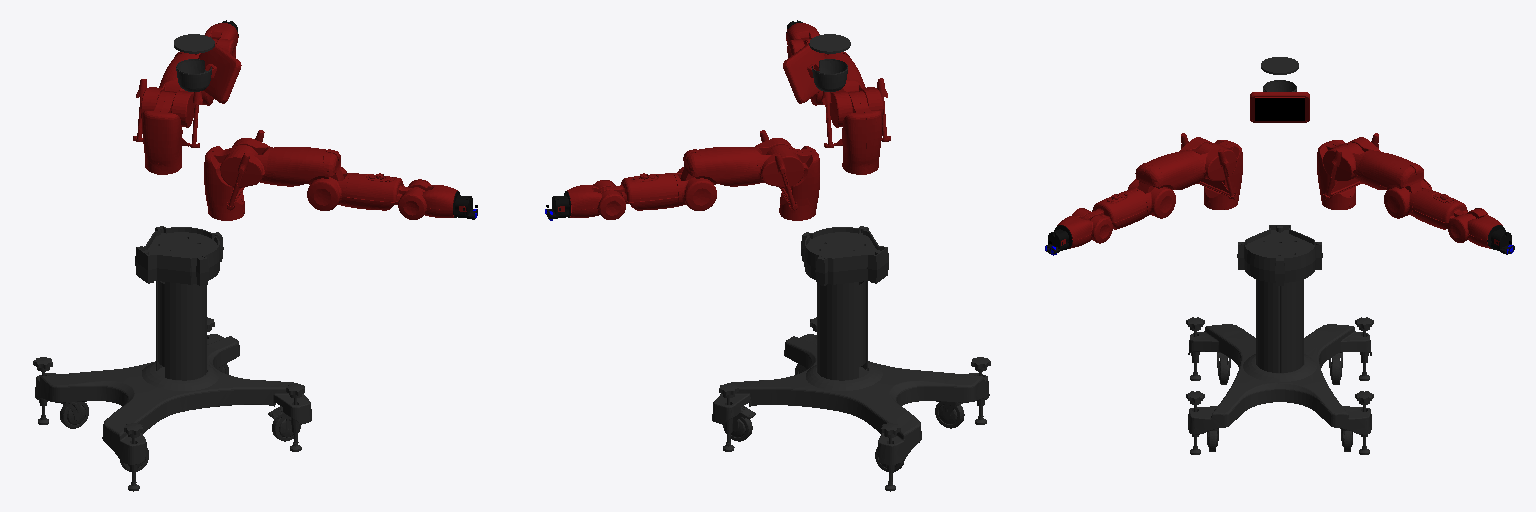
--- Render facts (derived) ---
Views: 3 orthographic renders of the robot side by side, from view 1: azimuth 30°, elevation 25°; view 2: azimuth 150°, elevation 25°; view 3: azimuth 270°, elevation 25°.
Model baxter with 49 links and 48 joints (15 revolute, 33 fixed), rooted at base, posed all joints at 0.
Links seen in each view (by area): view 1: pedestal, left_upper_shoulder, right_upper_elbow, right_upper_shoulder, right_upper_forearm, right_lower_forearm, right_lower_shoulder, screen, left_lower_shoulder, right_lower_elbow, head, left_lower_forearm (+1 smaller); view 2: pedestal, right_upper_shoulder, left_upper_elbow, left_upper_shoulder, left_upper_forearm, left_lower_forearm, left_lower_shoulder, screen, right_lower_shoulder, left_lower_elbow, head, right_lower_forearm (+1 smaller); view 3: pedestal, right_upper_elbow, left_upper_elbow, left_upper_shoulder, right_upper_shoulder, right_upper_forearm, left_upper_forearm, left_lower_forearm, right_lower_forearm, display, right_lower_shoulder, left_lower_shoulder (+4 smaller).
Link boxes in pixels (box(x1,y1,x2,y2)): pedestal: box(33, 226, 311, 491); left_upper_shoulder: box(133, 79, 202, 174); right_upper_elbow: box(265, 147, 343, 186); right_upper_shoulder: box(204, 130, 264, 220); right_upper_forearm: box(346, 173, 424, 210); right_lower_forearm: box(398, 179, 457, 219); right_lower_shoulder: box(220, 138, 272, 187); screen: box(198, 43, 241, 103); left_lower_shoulder: box(141, 79, 194, 127); right_lower_elbow: box(307, 166, 350, 210); head: box(176, 59, 211, 91); left_lower_forearm: box(205, 23, 238, 57); pedestal: box(712, 226, 990, 491); right_upper_shoulder: box(821, 78, 890, 174); left_upper_elbow: box(680, 147, 758, 186); left_upper_shoulder: box(760, 130, 819, 220); left_upper_forearm: box(598, 173, 678, 210); left_lower_forearm: box(567, 180, 625, 219); left_lower_shoulder: box(751, 138, 804, 187); screen: box(783, 44, 825, 103); right_lower_shoulder: box(830, 79, 883, 127); left_lower_elbow: box(673, 167, 716, 210); head: box(812, 59, 847, 91); right_lower_forearm: box(786, 23, 819, 57); pedestal: box(1186, 225, 1373, 454); right_upper_elbow: box(1135, 151, 1202, 193); left_upper_elbow: box(1357, 151, 1423, 193); left_upper_shoulder: box(1317, 133, 1378, 209); right_upper_shoulder: box(1181, 133, 1242, 209); right_upper_forearm: box(1083, 189, 1147, 229); left_upper_forearm: box(1412, 189, 1475, 229); left_lower_forearm: box(1448, 208, 1502, 248); right_lower_forearm: box(1057, 208, 1112, 248); display: box(1255, 98, 1304, 120); right_lower_shoulder: box(1179, 137, 1236, 180); left_lower_shoulder: box(1323, 137, 1380, 180).
Bounding box of the posed robot: 1.34 × 2.07 × 1.76 m (x, y, z).
17 mesh visuals loaded from 11 distinct referenced files (10 binary STL); not drawn: 1 (file found but could not be loaded).

The robot description file, URDF, robot "baxter":
<?xml version="1.0" ?>
<!-- =================================================================================== -->
<!-- |    This document was autogenerated by xacro from baxter.urdf.xacro              | -->
<!-- |    EDITING THIS FILE BY HAND IS NOT RECOMMENDED                                 | -->
<!-- =================================================================================== -->
<robot name="baxter">
  <link name="base">
  </link>
  <link name="torso">
    <visual>
      <origin rpy="0 0 0" xyz="0 0 0"/>
      <geometry>
        <mesh filename="package://baxter_description/meshes/torso/base_link.STL"/>
      </geometry>
    </visual>
    <collision>
      <origin rpy="0 0 0" xyz="0 0 0"/>
      <geometry>
        <mesh filename="package://baxter_description/meshes/torso/base_link_collision.STL"/>
      </geometry>
    </collision>
    <inertial>
      <origin rpy="0 0 0" xyz="0.000000 0.000000 0.000000"/>
      <mass value="35.336455"/>
      <inertia ixx="1.849155" ixy="-0.000354" ixz="-0.154188" iyy="1.662671" iyz="0.003292" izz="0.802239"/>
    </inertial>
  </link>
  <link name="left_torso_itb">
    <!-- note: invisible -->
    <inertial>
      <origin rpy="0 0 0" xyz="0.000000 0.000000 0.000000"/>
      <mass value="0.0001"/>
      <inertia ixx="1e-08" ixy="0" ixz="0" iyy="1e-08" iyz="0" izz="1e-08"/>
    </inertial>
  </link>
  <link name="right_torso_itb">
    <!-- note: invisible -->
    <inertial>
      <origin rpy="0 0 0" xyz="0.000000 0.000000 0.000000"/>
      <mass value="0.0001"/>
      <inertia ixx="1e-08" ixy="0" ixz="0" iyy="1e-08" iyz="0" izz="1e-08"/>
    </inertial>
  </link>
  <link name="pedestal">
    <visual>
      <origin rpy="0 0 0" xyz="0 0 0"/>
      <geometry>
        <mesh filename="package://baxter_description/meshes/base/PEDESTAL_simple.STL"/>
      </geometry>
      <material name="darkgray">
        <color rgba=".2 .2 .2 1"/>
      </material>
    </visual>
    <collision>
      <origin rpy="0 0 0" xyz="0 0 0"/>
      <geometry>
        <mesh filename="package://baxter_description/meshes/base/pedestal_link_collision.STL"/>
      </geometry>
    </collision>
    <inertial>
      <origin rpy="0 0 0" xyz="0 0 0"/>
      <mass value="60.86397744"/>
      <inertia ixx="5.0635929" ixy="0.00103417" ixz="0.80199628" iyy="6.08689388" iyz="0.00105311" izz="4.96191932"/>
    </inertial>
  </link>
  <link name="head">
    <visual>
      <origin rpy="0 0 0" xyz="0 0 .00953"/>
      <geometry>
        <mesh filename="package://baxter_description/meshes/head/H0_simple.STL"/>
      </geometry>
      <material name="darkgray">
        <color rgba=".2 .2 .2 1"/>
      </material>
    </visual>
    <collision>
      <origin rpy="0 0 0" xyz="0.0 0 0.0"/>
      <geometry>
        <sphere radius="0.001"/>
      </geometry>
    </collision>
    <inertial>
      <origin rpy="0 0 0" xyz="0 0 0"/>
      <mass value="0.547767"/>
      <inertia ixx="0.004641" ixy="0.000159" ixz="0.000242" iyy="0.003295" iyz="-0.001324" izz="0.003415"/>
    </inertial>
  </link>
  <link name="sonar_ring">
    <visual>
      <origin rpy="0 0 0" xyz="-.0347 0 .00953"/>
      <geometry>
        <cylinder length="0.01" radius="0.085"/>
      </geometry>
      <material name="darkgray">
        <color rgba=".2 .2 .2 1"/>
      </material>
    </visual>
    <collision>
      <origin rpy="0 0 0" xyz="0.0 0 0.0"/>
      <geometry>
        <sphere radius="0.001"/>
      </geometry>
    </collision>
    <inertial>
      <origin rpy="0 0 0" xyz="0 0 0"/>
      <mass value="0.0001"/>
      <inertia ixx="1e-08" ixy="0" ixz="0" iyy="1e-08" iyz="0" izz="1e-08"/>
    </inertial>
  </link>
  <link name="screen">
    <visual>
      <origin rpy="0 -1.57079632679 0" xyz="0 -.00953 -.0347"/>
      <geometry>
        <mesh filename="package://baxter_description/meshes/head/H1_simple.STL"/>
      </geometry>
      <material name="darkred">
        <color rgba=".5 .1 .1 1"/>
      </material>
    </visual>
    <collision>
      <origin rpy="0 0 0" xyz="0.0 0 0.0"/>
      <geometry>
        <sphere radius="0.001"/>
      </geometry>
    </collision>
    <inertial>
      <origin rpy="0 0 0" xyz="0 0 0"/>
      <mass value="0.440171"/>
      <inertia ixx="0.004006" ixy="0.000230" ixz="0.000002" iyy="0.002800" iyz="0.000029" izz="0.001509"/>
    </inertial>
  </link>
  <link name="display">
    <visual>
      <origin rpy="0.2617993877991494 0 0" xyz="0 0 0"/>
      <geometry>
        <box size="0.218 0.16 0.001"/>
      </geometry>
      <material name="black">
        <color rgba="0 0 0 1"/>
      </material>
    </visual>
    <inertial>
      <origin rpy="0 0 0" xyz="0 0 0"/>
      <mass value="0.0001"/>
      <inertia ixx="1e-08" ixy="0" ixz="0" iyy="1e-08" iyz="0" izz="1e-08"/>
    </inertial>
  </link>
  <link name="head_camera">
    <inertial>
      <origin rpy="0 0 0" xyz="0 0 0"/>
      <mass value="0.0001"/>
      <inertia ixx="1e-08" ixy="0" ixz="0" iyy="1e-08" iyz="0" izz="1e-08"/>
    </inertial>
  </link>
  <link name="dummyhead1">
    <inertial>
      <origin rpy="0 0 0" xyz="0 0 0"/>
      <mass value="0.0001"/>
      <inertia ixx="1e-08" ixy="0" ixz="0" iyy="1e-08" iyz="0" izz="1e-08"/>
    </inertial>
  </link>
  <link name="collision_head_link_1">
    <visual>
      <origin rpy="0 0 0" xyz="0 0 0"/>
      <geometry>
        <sphere radius="0.001"/>
      </geometry>
      <material name="red">
        <color rgba="0.8 0.3 0.3 0.3"/>
      </material>
    </visual>
    <collision>
      <origin rpy="0 0 0.0" xyz="-0.07 -0.04 0.0"/>
      <geometry>
        <sphere radius="0.22"/>
      </geometry>
    </collision>
    <inertial>
      <origin rpy="0 0 0" xyz="0 0 0"/>
      <mass value="0.0001"/>
      <inertia ixx="1e-08" ixy="0" ixz="0" iyy="1e-08" iyz="0" izz="1e-08"/>
    </inertial>
  </link>
  <link name="collision_head_link_2">
    <visual>
      <origin rpy="0 0 0" xyz="0 0 0"/>
      <geometry>
        <sphere radius="0.001"/>
      </geometry>
      <material name="red">
        <color rgba="0.8 0.3 0.3 0.3"/>
      </material>
    </visual>
    <collision>
      <origin rpy="0 0 0" xyz="-0.07 0.04 0.00"/>
      <geometry>
        <sphere radius="0.22"/>
      </geometry>
    </collision>
    <inertial>
      <origin rpy="0 0 0" xyz="0 0 0"/>
      <mass value="0.0001"/>
      <inertia ixx="1e-08" ixy="0" ixz="0" iyy="1e-08" iyz="0" izz="1e-08"/>
    </inertial>
  </link>
  <joint name="collision_head_1" type="fixed">
    <origin rpy="0 0 0" xyz="0.11 0 0.75"/>
    <parent link="base"/>
    <child link="collision_head_link_1"/>
  </joint>
  <joint name="collision_head_2" type="fixed">
    <origin rpy="0 0 0" xyz="0.11 0 0.75"/>
    <parent link="base"/>
    <child link="collision_head_link_2"/>
  </joint>
  <joint name="dummy" type="fixed">
    <origin rpy="0 0 0" xyz="0 0 0"/>
    <parent link="head"/>
    <child link="dummyhead1"/>
  </joint>
  <joint name="torso_t0" type="fixed">
    <origin rpy="0 0 0" xyz="0 0 0"/>
    <parent link="base"/>
    <child link="torso"/>
    <limit effort="50000" lower="-3.01" upper="3.01" velocity="10000"/>
  </joint>
  <joint name="left_torso_itb_fixed" type="fixed">
    <origin rpy="-1.57079632679 3.1415 0" xyz="-0.08897 0.15593 0.389125"/>
    <parent link="torso"/>
    <child link="left_torso_itb"/>
  </joint>
  <joint name="right_torso_itb_fixed" type="fixed">
    <origin rpy="1.57079632679 0 0" xyz="-0.08897 -0.15593 0.389125"/>
    <parent link="torso"/>
    <child link="right_torso_itb"/>
  </joint>
  <joint name="pedestal_fixed" type="fixed">
    <origin rpy="0 0 0" xyz="0.0 0.0 0.0"/>
    <parent link="torso"/>
    <child link="pedestal"/>
  </joint>
  <joint name="head_pan" type="revolute">
    <origin rpy="0 0 0" xyz="0.06 0 0.686"/>
    <axis xyz="0 0 1"/>
    <parent link="torso"/>
    <child link="head"/>
    <limit effort="50000" lower="-1.57079632679" upper="1.57079632679" velocity="10000"/>
    <dynamics damping="0.7" friction="0.0"/>
  </joint>
  <joint name="head_nod" type="fixed">
    <origin rpy="1.75057 0 1.57079632679" xyz=".1227 0 0"/>
    <parent link="head"/>
    <child link="screen"/>
  </joint>
  <joint name="head_camera" type="fixed">
    <origin rpy="1.75057 0 1.57079632679" xyz="0.12839 0 0.06368"/>
    <parent link="head"/>
    <child link="head_camera"/>
  </joint>
  <joint name="display_joint" type="fixed">
    <origin rpy="0 0 0" xyz="0.0 -0.016 0.0"/>
    <parent link="screen"/>
    <child link="display"/>
  </joint>
  <joint name="sonar_s0" type="fixed">
    <origin rpy="0 0 0" xyz="0.0947 0 .817"/>
    <axis xyz="0 0 1"/>
    <parent link="torso"/>
    <child link="sonar_ring"/>
  </joint>
  <link name="right_arm_mount">
    <!-- all defaults -->
    <inertial>
      <origin rpy="0 0 0" xyz="0 0 0"/>
      <mass value="0.0001"/>
      <inertia ixx="1e-08" ixy="0" ixz="0" iyy="1e-08" iyz="0" izz="1e-08"/>
    </inertial>
  </link>
  <link name="right_upper_shoulder">
    <visual>
      <origin rpy="0 0 0" xyz="0 0 0"/>
      <geometry>
        <mesh filename="package://baxter_description/meshes/upper_shoulder/S0_simple.STL"/>
      </geometry>
      <material name="darkred">
        <color rgba=".5 .1 .1 1"/>
      </material>
    </visual>
    <collision>
      <origin rpy="0 0 0" xyz="0 0 0.1361"/>
      <geometry>
        <cylinder length="0.2722" radius="0.06"/>
      </geometry>
    </collision>
    <inertial>
      <origin rpy="0 0 0" xyz="0.01783 0.00086 0.19127"/>
      <mass value="5.70044"/>
      <inertia ixx="0.04709102262" ixy="0.00012787556" ixz="0.00614870039" iyy="0.03766976455" iyz="0.00078086899" izz="0.03595988478"/>
    </inertial>
  </link>
  <link name="right_lower_shoulder">
    <visual>
      <origin rpy="0 0 0" xyz="0 0 0"/>
      <geometry>
        <mesh filename="package://baxter_description/meshes/lower_shoulder/S1_simple.STL"/>
      </geometry>
      <material name="darkred">
        <color rgba=".5 .1 .1 1"/>
      </material>
    </visual>
    <collision>
      <origin rpy="0 0 0" xyz="0 0 0"/>
      <geometry>
        <cylinder length="0.12" radius="0.06"/>
      </geometry>
    </collision>
    <inertial>
      <origin rpy="0 0 0" xyz="0.06845 0.00269 -0.00529"/>
      <mass value="3.22698"/>
      <inertia ixx="0.01175209419" ixy="-0.00030096398" ixz="0.00207675762" iyy="0.0278859752" iyz="-0.00018821993" izz="0.02078749298"/>
    </inertial>
  </link>
  <link name="right_upper_elbow">
    <visual>
      <origin rpy="0 0 0" xyz="0 0 0"/>
      <geometry>
        <mesh filename="package://baxter_description/meshes/upper_elbow/E0_simple.STL"/>
      </geometry>
      <material name="darkred">
        <color rgba=".5 .1 .1 1"/>
      </material>
    </visual>
    <collision>
      <origin rpy="0 0 0" xyz="0 0 -0.0535"/>
      <geometry>
        <cylinder length="0.107" radius="0.06"/>
      </geometry>
    </collision>
    <inertial>
      <origin rpy="0 0 0" xyz="-0.00276 0.00132 0.18086"/>
      <mass value="4.31272"/>
      <inertia ixx="0.02661733557" ixy="0.00029270634" ixz="0.00392189887" iyy="0.02844355207" iyz="0.0010838933" izz="0.01248008322"/>
    </inertial>
  </link>
  <link name="right_upper_elbow_visual">
    <collision>
      <origin rpy="0 0 0" xyz="0 0 0.1365"/>
      <geometry>
        <cylinder length="0.273" radius="0.06"/>
      </geometry>
    </collision>
    <inertial>
      <origin rpy="0 0 0" xyz="0 0 0"/>
      <mass value="0.0001"/>
      <inertia ixx="1e-08" ixy="0" ixz="0" iyy="1e-08" iyz="0" izz="1e-08"/>
    </inertial>
  </link>
  <link name="right_lower_elbow">
    <visual>
      <origin rpy="0 0 0" xyz="0 0 0"/>
      <geometry>
        <mesh filename="package://baxter_description/meshes/lower_elbow/E1_simple.STL"/>
      </geometry>
      <material name="darkred">
        <color rgba=".5 .1 .1 1"/>
      </material>
    </visual>
    <collision>
      <origin rpy="0 0 0" xyz="0.0 0.0 0.0"/>
      <geometry>
        <cylinder length="0.10" radius="0.06"/>
      </geometry>
    </collision>
    <inertial>
      <origin rpy="0 0 0" xyz="0.02611 0.00159 -0.01117"/>
      <mass value="2.07206"/>
      <inertia ixx="0.00711582686" ixy="0.00036036173" ixz="0.0007459496" iyy="0.01318227876" iyz="-0.00019663418" izz="0.00926852064"/>
    </inertial>
  </link>
  <link name="right_upper_forearm">
    <visual>
      <origin rpy="0 0 0" xyz="0 0 0"/>
      <geometry>
        <mesh filename="package://baxter_description/meshes/upper_forearm/W0_simple.STL"/>
      </geometry>
      <material name="darkred">
        <color rgba=".5 .1 .1 1"/>
      </material>
    </visual>
    <collision>
      <origin rpy="0 0 0" xyz="0 0 -0.044"/>
      <geometry>
        <cylinder length="0.088" radius="0.06"/>
      </geometry>
    </collision>
    <inertial>
      <origin rpy="0 0 0" xyz="-0.00168 0.0046 0.13952"/>
      <mass value="2.24665"/>
      <inertia ixx="0.01667742825" ixy="0.00018403705" ixz="0.00018657629" iyy="0.01675457264" iyz="-0.00064732352" izz="0.0037463115"/>
    </inertial>
  </link>
  <link name="right_upper_forearm_visual">
    <collision>
      <origin rpy="0 0 0" xyz="0 0 0.136"/>
      <geometry>
        <cylinder length="0.272" radius="0.06"/>
      </geometry>
    </collision>
    <inertial>
      <origin rpy="0 0 0" xyz="0 0 0"/>
      <mass value="0.0001"/>
      <inertia ixx="1e-08" ixy="0" ixz="0" iyy="1e-08" iyz="0" izz="1e-08"/>
    </inertial>
  </link>
  <link name="right_arm_itb">
    <!-- note: invisible -->
    <inertial>
      <origin rpy="0 0 0" xyz="0.000000 0.000000 0.000000"/>
      <mass value="0.0001"/>
      <inertia ixx="1e-08" ixy="0" ixz="0" iyy="1e-08" iyz="0" izz="1e-08"/>
    </inertial>
  </link>
  <link name="right_lower_forearm">
    <visual>
      <origin rpy="0 0 0" xyz="0 0 0"/>
      <geometry>
        <mesh filename="package://baxter_description/meshes/lower_forearm/W1_simple.STL"/>
      </geometry>
      <material name="darkred">
        <color rgba=".5 .1 .1 1"/>
      </material>
    </visual>
    <collision>
      <origin rpy="0 0 0" xyz="0 0 0"/>
      <geometry>
        <cylinder length="0.10" radius="0.06"/>
      </geometry>
    </collision>
    <inertial>
      <origin rpy="0 0 0" xyz="0.06041 0.00697 0.006"/>
      <mass value="1.60979"/>
      <inertia ixx="0.00387607152" ixy="-0.00044384784" ixz="-0.00021115038" iyy="0.00700537914" iyz="0.00015348067" izz="0.0055275524"/>
    </inertial>
  </link>
  <link name="right_wrist">
    <visual>
      <origin rpy="0 0 0" xyz="0 0 0"/>
      <geometry>
        <mesh filename="package://baxter_description/meshes/wrist/W2_simple.STL"/>
      </geometry>
      <material name="lightgrey">
        <color rgba=".1 .1 .1 1"/>
      </material>
    </visual>
    <collision>
      <origin rpy="0 0 0" xyz="0 0 0"/>
      <geometry>
        <cylinder length="0.165" radius="0.06"/>
      </geometry>
    </collision>
    <inertial>
      <origin rpy="0 0 0" xyz="0.00198 0.00125 0.01855"/>
      <mass value="0.35093"/>
      <inertia ixx="0.00025289155" ixy="0.00000575311" ixz="-0.00000159345" iyy="0.0002688601" iyz="-0.00000519818" izz="0.0003074118"/>
    </inertial>
  </link>
  <link name="right_hand">
    <collision>
      <origin rpy="0 0 0" xyz="0 0 -0.0232"/>
      <geometry>
        <cylinder length="0.0464" radius="0.04"/>
      </geometry>
    </collision>
    <inertial>
      <origin rpy="0 0 0" xyz="0.01093 0.00042 -0.01532"/>
      <mass value="0.19125"/>
      <inertia ixx="0.00017588" ixy="0.00000147073" ixz="0.0000243633" iyy="0.00021166377" iyz="0.00000172689" izz="0.00023745397"/>
    </inertial>
  </link>
  <link name="right_hand_camera">
    <visual>
      <origin rpy="0 0 0" xyz="0 0 0"/>
      <geometry>
        <cylinder length="0.01" radius="0.02"/>
      </geometry>
      <material name="blue">
        <color rgba="0 0 1 0.8"/>
      </material>
    </visual>
    <inertial>
      <origin rpy="0 0 0" xyz="0 0 0"/>
      <mass value="0.0001"/>
      <inertia ixx="1e-08" ixy="0" ixz="0" iyy="1e-08" iyz="0" izz="1e-08"/>
    </inertial>
  </link>
  <link name="right_hand_camera_axis">
    <inertial>
      <origin rpy="0 0 0" xyz="0 0 0"/>
      <mass value="0.0001"/>
      <inertia ixx="1e-08" ixy="0" ixz="0" iyy="1e-08" iyz="0" izz="1e-08"/>
    </inertial>
  </link>
  <link name="right_hand_range">
    <visual>
      <origin rpy="0 0 0" xyz="0 0 0"/>
      <geometry>
        <box size="0.005 .02 .005"/>
      </geometry>
      <material name="blue">
        <color rgba="0 0 1 0.8"/>
      </material>
    </visual>
    <inertial>
      <origin rpy="0 0 0" xyz="0 0 0"/>
      <mass value="0.0001"/>
      <inertia ixx="1e-08" ixy="0" ixz="0" iyy="1e-08" iyz="0" izz="1e-08"/>
    </inertial>
  </link>
  <link name="right_hand_accelerometer">
    <visual>
      <origin rpy="0 0 0" xyz="0 0 0"/>
      <geometry>
        <box size="0.01 0.01 0.01"/>
      </geometry>
      <material name="black">
        <color rgba="0 0 0 1"/>
      </material>
    </visual>
    <inertial>
      <origin rpy="0 0 0" xyz="0.000000 0.000000 0.000000"/>
      <mass value="0.0001"/>
      <inertia ixx="1e-08" ixy="0" ixz="0" iyy="1e-08" iyz="0" izz="1e-08"/>
    </inertial>
  </link>
  <link name="right_gripper_base">
    <visual>
      <origin rpy="0 0 0" xyz="0 0 -0.02"/>
      <geometry>
        <box size="0.025 0.075 0.035"/>
      </geometry>
      <material name="darkred">
        <color rgba=".5 .1 .1 1"/>
      </material>
    </visual>
    <inertial>
      <origin rpy="0 0 0" xyz="0.000000 0.000000 0.000000"/>
      <mass value="0.0001"/>
      <inertia ixx="1e-08" ixy="0" ixz="0" iyy="1e-08" iyz="0" izz="1e-08"/>
    </inertial>
  </link>
  <link name="right_gripper">
    <visual>
      <origin rpy="0 0 0" xyz="0 0 0"/>
      <geometry>
        <box size="0.01 0.01 0.01"/>
      </geometry>
      <material name="black">
        <color rgba="0 0 0 1"/>
      </material>
    </visual>
    <inertial>
      <origin rpy="0 0 0" xyz="0.000000 0.000000 0.000000"/>
      <mass value="0.0001"/>
      <inertia ixx="1e-08" ixy="0" ixz="0" iyy="1e-08" iyz="0" izz="1e-08"/>
    </inertial>
  </link>
  <joint name="right_torso_arm_mount" type="fixed">
    <origin rpy="0 0 -0.7854" xyz="0.024645 -0.219645 0.118588"/>
    <parent link="torso"/>
    <child link="right_arm_mount"/>
  </joint>
  <joint name="right_s0" type="revolute">
    <origin rpy="0 0 0" xyz="0.055695 0 0.011038"/>
    <axis xyz="0 0 1"/>
    <parent link="right_arm_mount"/>
    <child link="right_upper_shoulder"/>
    <limit effort="50.0" lower="-1.70167993878" upper="1.70167993878" velocity="1.5"/>
    <dynamics damping="0.7" friction="0.0"/>
  </joint>
  <joint name="right_s1" type="revolute">
    <origin rpy="-1.57079632679 0 0" xyz="0.069 0 0.27035"/>
    <axis xyz="0 0 1"/>
    <parent link="right_upper_shoulder"/>
    <child link="right_lower_shoulder"/>
    <limit effort="100.0" lower="-2.147" upper="1.047" velocity="1.5"/>
    <dynamics damping="0.7" friction="0.0"/>
  </joint>
  <joint name="right_e0" type="revolute">
    <origin rpy="1.57079632679 0 1.57079632679" xyz="0.102 0 0"/>
    <axis xyz="0 0 1"/>
    <parent link="right_lower_shoulder"/>
    <child link="right_upper_elbow"/>
    <limit effort="50.0" lower="-3.05417993878" upper="3.05417993878" velocity="1.5"/>
    <dynamics damping="0.7" friction="0.0"/>
  </joint>
  <joint name="right_e0_fixed" type="fixed">
    <origin rpy="1.57079632679 0 1.57079632679" xyz="0.107 0 0"/>
    <axis xyz="0 0 1"/>
    <parent link="right_lower_shoulder"/>
    <child link="right_upper_elbow_visual"/>
  </joint>
  <joint name="right_e1" type="revolute">
    <origin rpy="-1.57079632679 -1.57079632679 0" xyz="0.069 0 0.26242"/>
    <axis xyz="0 0 1"/>
    <parent link="right_upper_elbow"/>
    <child link="right_lower_elbow"/>
    <limit effort="50.0" lower="-0.05" upper="2.618" velocity="1.5"/>
    <dynamics damping="0.7" friction="0.0"/>
  </joint>
  <joint name="right_w0" type="revolute">
    <origin rpy="1.57079632679 0 1.57079632679" xyz="0.10359 0 0"/>
    <axis xyz="0 0 1"/>
    <parent link="right_lower_elbow"/>
    <child link="right_upper_forearm"/>
    <limit effort="15.0" lower="-3.059" upper="3.059" velocity="4.0"/>
    <dynamics damping="0.7" friction="0.0"/>
  </joint>
  <joint name="right_w0_fixed" type="fixed">
    <origin rpy="1.57079632679 0 1.57079632679" xyz="0.088 0 0"/>
    <axis xyz="0 0 1"/>
    <parent link="right_lower_elbow"/>
    <child link="right_upper_forearm_visual"/>
  </joint>
  <joint name="right_w0_to_itb_fixed" type="fixed">
    <origin rpy="-1.57079632679 0 1.57079632679" xyz="-0.0565 0 0.12"/>
    <axis xyz="0 0 1"/>
    <parent link="right_upper_forearm"/>
    <child link="right_arm_itb"/>
  </joint>
  <joint name="right_w1" type="revolute">
    <origin rpy="-1.57079632679 -1.57079632679 0" xyz="0.01 0 0.2707"/>
    <axis xyz="0 0 1"/>
    <parent link="right_upper_forearm"/>
    <child link="right_lower_forearm"/>
    <limit effort="15.0" lower="-1.57079632679" upper="2.094" velocity="4.0"/>
    <dynamics damping="0.7" friction="0.0"/>
  </joint>
  <joint name="right_w2" type="revolute">
    <origin rpy="1.57079632679 0 1.57079632679" xyz="0.115975 0 0"/>
    <axis xyz="0 0 1"/>
    <parent link="right_lower_forearm"/>
    <child link="right_wrist"/>
    <limit effort="15.0" lower="-3.059" upper="3.059" velocity="4.0"/>
    <dynamics damping="0.7" friction="0.0"/>
  </joint>
  <joint name="right_hand" type="fixed">
    <origin rpy="0 0 0" xyz="0 0 0.11355"/>
    <axis xyz="0 0 1"/>
    <parent link="right_wrist"/>
    <child link="right_hand"/>
    <dynamics damping="0.7" friction="0.0"/>
  </joint>
  <joint name="right_hand_camera" type="fixed">
    <origin rpy="0 0 -1.57079633" xyz="0.03825 0.012 0.015355"/>
    <parent link="right_hand"/>
    <child link="right_hand_camera"/>
  </joint>
  <joint name="right_hand_camera_axis" type="fixed">
    <origin rpy="0 0 0" xyz="0.03825 0.012 0.015355"/>
    <parent link="right_hand"/>
    <child link="right_hand_camera_axis"/>
  </joint>
  <joint name="right_hand_range" type="fixed">
    <origin rpy="0 -1.57079632679 -1.57079632679" xyz="0.032 -0.020245 0.0288"/>
    <parent link="right_hand"/>
    <child link="right_hand_range"/>
  </joint>
  <joint name="right_hand_accelerometer" type="fixed">
    <origin rpy="0 0 0" xyz="0.00198 0.000133 -0.0146"/>
    <parent link="right_hand"/>
    <child link="right_hand_accelerometer"/>
  </joint>
  <joint name="right_gripper_base" type="fixed">
    <origin rpy="0 0 0" xyz="0 0 0"/>
    <parent link="right_hand"/>
    <child link="right_gripper_base"/>
  </joint>
  <joint name="right_endpoint" type="fixed">
    <origin rpy="0 0 0" xyz="0.0 0 0.025"/>
    <parent link="right_gripper_base"/>
    <child link="right_gripper"/>
  </joint>
  <link name="left_arm_mount">
    <!-- all defaults -->
    <inertial>
      <origin rpy="0 0 0" xyz="0 0 0"/>
      <mass value="0.0001"/>
      <inertia ixx="1e-08" ixy="0" ixz="0" iyy="1e-08" iyz="0" izz="1e-08"/>
    </inertial>
  </link>
  <link name="left_upper_shoulder">
    <visual>
      <origin rpy="0 0 0" xyz="0 0 0"/>
      <geometry>
        <mesh filename="package://baxter_description/meshes/upper_shoulder/S0_simple.STL"/>
      </geometry>
      <material name="darkred">
        <color rgba=".5 .1 .1 1"/>
      </material>
    </visual>
    <collision>
      <origin rpy="0 0 0" xyz="0 0 0.1361"/>
      <geometry>
        <cylinder length="0.2722" radius="0.06"/>
      </geometry>
    </collision>
    <inertial>
      <origin rpy="0 0 0" xyz="0.01783 0.00086 0.19127"/>
      <mass value="5.70044"/>
      <inertia ixx="0.04709102262" ixy="0.00012787556" ixz="0.00614870039" iyy="0.03766976455" iyz="0.00078086899" izz="0.03595988478"/>
    </inertial>
  </link>
  <link name="left_lower_shoulder">
    <visual>
      <origin rpy="0 0 0" xyz="0 0 0"/>
      <geometry>
        <mesh filename="package://baxter_description/meshes/lower_shoulder/S1_simple.STL"/>
      </geometry>
      <material name="darkred">
        <color rgba=".5 .1 .1 1"/>
      </material>
    </visual>
    <collision>
      <origin rpy="0 0 0" xyz="0 0 0"/>
      <geometry>
        <cylinder length="0.12" radius="0.06"/>
      </geometry>
    </collision>
    <inertial>
      <origin rpy="0 0 0" xyz="0.06845 0.00269 -0.00529"/>
      <mass value="3.22698"/>
      <inertia ixx="0.01175209419" ixy="-0.00030096398" ixz="0.00207675762" iyy="0.0278859752" iyz="-0.00018821993" izz="0.02078749298"/>
    </inertial>
  </link>
  <link name="left_upper_elbow">
    <visual>
      <origin rpy="0 0 0" xyz="0 0 0"/>
      <geometry>
        <mesh filename="package://baxter_description/meshes/upper_elbow/E0_simple.STL"/>
      </geometry>
      <material name="darkred">
        <color rgba=".5 .1 .1 1"/>
      </material>
    </visual>
    <collision>
      <origin rpy="0 0 0" xyz="0 0 -0.0535"/>
      <geometry>
        <cylinder length="0.107" radius="0.06"/>
      </geometry>
    </collision>
    <inertial>
      <origin rpy="0 0 0" xyz="-0.00276 0.00132 0.18086"/>
      <mass value="4.31272"/>
      <inertia ixx="0.02661733557" ixy="0.00029270634" ixz="0.00392189887" iyy="0.02844355207" iyz="0.0010838933" izz="0.01248008322"/>
    </inertial>
  </link>
  <link name="left_upper_elbow_visual">
    <collision>
      <origin rpy="0 0 0" xyz="0 0 0.1365"/>
      <geometry>
        <cylinder length="0.273" radius="0.06"/>
      </geometry>
    </collision>
    <inertial>
      <origin rpy="0 0 0" xyz="0 0 0"/>
      <mass value="0.0001"/>
      <inertia ixx="1e-08" ixy="0" ixz="0" iyy="1e-08" iyz="0" izz="1e-08"/>
    </inertial>
  </link>
  <link name="left_lower_elbow">
    <visual>
      <origin rpy="0 0 0" xyz="0 0 0"/>
      <geometry>
        <mesh filename="package://baxter_description/meshes/lower_elbow/E1_simple.STL"/>
      </geometry>
      <material name="darkred">
        <color rgba=".5 .1 .1 1"/>
      </material>
    </visual>
    <collision>
      <origin rpy="0 0 0" xyz="0.0 0.0 0.0"/>
      <geometry>
        <cylinder length="0.10" radius="0.06"/>
      </geometry>
    </collision>
    <inertial>
      <origin rpy="0 0 0" xyz="0.02611 0.00159 -0.01117"/>
      <mass value="2.07206"/>
      <inertia ixx="0.00711582686" ixy="0.00036036173" ixz="0.0007459496" iyy="0.01318227876" iyz="-0.00019663418" izz="0.00926852064"/>
    </inertial>
  </link>
  <link name="left_upper_forearm">
    <visual>
      <origin rpy="0 0 0" xyz="0 0 0"/>
      <geometry>
        <mesh filename="package://baxter_description/meshes/upper_forearm/W0_simple.STL"/>
      </geometry>
      <material name="darkred">
        <color rgba=".5 .1 .1 1"/>
      </material>
    </visual>
    <collision>
      <origin rpy="0 0 0" xyz="0 0 -0.044"/>
      <geometry>
        <cylinder length="0.088" radius="0.06"/>
      </geometry>
    </collision>
    <inertial>
      <origin rpy="0 0 0" xyz="-0.00168 0.0046 0.13952"/>
      <mass value="2.24665"/>
      <inertia ixx="0.01667742825" ixy="0.00018403705" ixz="0.00018657629" iyy="0.01675457264" iyz="-0.00064732352" izz="0.0037463115"/>
    </inertial>
  </link>
  <link name="left_upper_forearm_visual">
    <collision>
      <origin rpy="0 0 0" xyz="0 0 0.136"/>
      <geometry>
        <cylinder length="0.272" radius="0.06"/>
      </geometry>
    </collision>
    <inertial>
      <origin rpy="0 0 0" xyz="0 0 0"/>
      <mass value="0.0001"/>
      <inertia ixx="1e-08" ixy="0" ixz="0" iyy="1e-08" iyz="0" izz="1e-08"/>
    </inertial>
  </link>
  <link name="left_arm_itb">
    <!-- note: invisible -->
    <inertial>
      <origin rpy="0 0 0" xyz="0.000000 0.000000 0.000000"/>
      <mass value="0.0001"/>
      <inertia ixx="1e-08" ixy="0" ixz="0" iyy="1e-08" iyz="0" izz="1e-08"/>
    </inertial>
  </link>
  <link name="left_lower_forearm">
    <visual>
      <origin rpy="0 0 0" xyz="0 0 0"/>
      <geometry>
        <mesh filename="package://baxter_description/meshes/lower_forearm/W1_simple.STL"/>
      </geometry>
      <material name="darkred">
        <color rgba=".5 .1 .1 1"/>
      </material>
    </visual>
    <collision>
      <origin rpy="0 0 0" xyz="0 0 0"/>
      <geometry>
        <cylinder length="0.10" radius="0.06"/>
      </geometry>
    </collision>
    <inertial>
      <origin rpy="0 0 0" xyz="0.06041 0.00697 0.006"/>
      <mass value="1.60979"/>
      <inertia ixx="0.00387607152" ixy="-0.00044384784" ixz="-0.00021115038" iyy="0.00700537914" iyz="0.00015348067" izz="0.0055275524"/>
    </inertial>
  </link>
  <link name="left_wrist">
    <visual>
      <origin rpy="0 0 0" xyz="0 0 0"/>
      <geometry>
        <mesh filename="package://baxter_description/meshes/wrist/W2_simple.STL"/>
      </geometry>
      <material name="lightgrey">
        <color rgba=".1 .1 .1 1"/>
      </material>
    </visual>
    <collision>
      <origin rpy="0 0 0" xyz="0 0 0"/>
      <geometry>
        <cylinder length="0.165" radius="0.06"/>
      </geometry>
    </collision>
    <inertial>
      <origin rpy="0 0 0" xyz="0.00198 0.00125 0.01855"/>
      <mass value="0.35093"/>
      <inertia ixx="0.00025289155" ixy="0.00000575311" ixz="-0.00000159345" iyy="0.0002688601" iyz="-0.00000519818" izz="0.0003074118"/>
    </inertial>
  </link>
  <link name="left_hand">
    <collision>
      <origin rpy="0 0 0" xyz="0 0 -0.0232"/>
      <geometry>
        <cylinder length="0.0464" radius="0.04"/>
      </geometry>
    </collision>
    <inertial>
      <origin rpy="0 0 0" xyz="0.01093 0.00042 -0.01532"/>
      <mass value="0.19125"/>
      <inertia ixx="0.00017588" ixy="0.00000147073" ixz="0.0000243633" iyy="0.00021166377" iyz="0.00000172689" izz="0.00023745397"/>
    </inertial>
  </link>
  <link name="left_hand_camera">
    <visual>
      <origin rpy="0 0 0" xyz="0 0 0"/>
      <geometry>
        <cylinder length="0.01" radius="0.02"/>
      </geometry>
      <material name="blue">
        <color rgba="0 0 1 0.8"/>
      </material>
    </visual>
    <inertial>
      <origin rpy="0 0 0" xyz="0 0 0"/>
      <mass value="0.0001"/>
      <inertia ixx="1e-08" ixy="0" ixz="0" iyy="1e-08" iyz="0" izz="1e-08"/>
    </inertial>
  </link>
  <link name="left_hand_camera_axis">
    <inertial>
      <origin rpy="0 0 0" xyz="0 0 0"/>
      <mass value="0.0001"/>
      <inertia ixx="1e-08" ixy="0" ixz="0" iyy="1e-08" iyz="0" izz="1e-08"/>
    </inertial>
  </link>
  <link name="left_hand_range">
    <visual>
      <origin rpy="0 0 0" xyz="0 0 0"/>
      <geometry>
        <box size="0.005 .02 .005"/>
      </geometry>
      <material name="blue">
        <color rgba="0 0 1 0.8"/>
      </material>
    </visual>
    <inertial>
      <origin rpy="0 0 0" xyz="0 0 0"/>
      <mass value="0.0001"/>
      <inertia ixx="1e-08" ixy="0" ixz="0" iyy="1e-08" iyz="0" izz="1e-08"/>
    </inertial>
  </link>
  <link name="left_hand_accelerometer">
    <visual>
      <origin rpy="0 0 0" xyz="0 0 0"/>
      <geometry>
        <box size="0.01 0.01 0.01"/>
      </geometry>
      <material name="black">
        <color rgba="0 0 0 1"/>
      </material>
    </visual>
    <inertial>
      <origin rpy="0 0 0" xyz="0.000000 0.000000 0.000000"/>
      <mass value="0.0001"/>
      <inertia ixx="1e-08" ixy="0" ixz="0" iyy="1e-08" iyz="0" izz="1e-08"/>
    </inertial>
  </link>
  <link name="left_gripper_base">
    <visual>
      <origin rpy="0 0 0" xyz="0 0 -0.02"/>
      <geometry>
        <box size="0.025 0.075 0.035"/>
      </geometry>
      <material name="darkred">
        <color rgba=".5 .1 .1 1"/>
      </material>
    </visual>
    <inertial>
      <origin rpy="0 0 0" xyz="0.000000 0.000000 0.000000"/>
      <mass value="0.0001"/>
      <inertia ixx="1e-08" ixy="0" ixz="0" iyy="1e-08" iyz="0" izz="1e-08"/>
    </inertial>
  </link>
  <link name="left_gripper">
    <visual>
      <origin rpy="0 0 0" xyz="0 0 0"/>
      <geometry>
        <box size="0.01 0.01 0.01"/>
      </geometry>
      <material name="black">
        <color rgba="0 0 0 1"/>
      </material>
    </visual>
    <inertial>
      <origin rpy="0 0 0" xyz="0.000000 0.000000 0.000000"/>
      <mass value="0.0001"/>
      <inertia ixx="1e-08" ixy="0" ixz="0" iyy="1e-08" iyz="0" izz="1e-08"/>
    </inertial>
  </link>
  <joint name="left_torso_arm_mount" type="fixed">
    <origin rpy="0 0 0.7854" xyz="0.024645 0.219645 0.118588"/>
    <parent link="torso"/>
    <child link="left_arm_mount"/>
  </joint>
  <joint name="left_s0" type="revolute">
    <origin rpy="0 0 0" xyz="0.055695 0 0.011038"/>
    <axis xyz="0 0 1"/>
    <parent link="left_arm_mount"/>
    <child link="left_upper_shoulder"/>
    <limit effort="50.0" lower="-1.70167993878" upper="1.70167993878" velocity="1.5"/>
    <dynamics damping="0.7" friction="0.0"/>
  </joint>
  <joint name="left_s1" type="revolute">
    <origin rpy="-1.57079632679 0 0" xyz="0.069 0 0.27035"/>
    <axis xyz="0 0 1"/>
    <parent link="left_upper_shoulder"/>
    <child link="left_lower_shoulder"/>
    <limit effort="100.0" lower="-2.147" upper="1.047" velocity="1.5"/>
    <dynamics damping="0.7" friction="0.0"/>
  </joint>
  <joint name="left_e0" type="revolute">
    <origin rpy="1.57079632679 0 1.57079632679" xyz="0.102 0 0"/>
    <axis xyz="0 0 1"/>
    <parent link="left_lower_shoulder"/>
    <child link="left_upper_elbow"/>
    <limit effort="50.0" lower="-3.05417993878" upper="3.05417993878" velocity="1.5"/>
    <dynamics damping="0.7" friction="0.0"/>
  </joint>
  <joint name="left_e0_fixed" type="fixed">
    <origin rpy="1.57079632679 0 1.57079632679" xyz="0.107 0 0"/>
    <axis xyz="0 0 1"/>
    <parent link="left_lower_shoulder"/>
    <child link="left_upper_elbow_visual"/>
  </joint>
  <joint name="left_e1" type="revolute">
    <origin rpy="-1.57079632679 -1.57079632679 0" xyz="0.069 0 0.26242"/>
    <axis xyz="0 0 1"/>
    <parent link="left_upper_elbow"/>
    <child link="left_lower_elbow"/>
    <limit effort="50.0" lower="-0.05" upper="2.618" velocity="1.5"/>
    <dynamics damping="0.7" friction="0.0"/>
  </joint>
  <joint name="left_w0" type="revolute">
    <origin rpy="1.57079632679 0 1.57079632679" xyz="0.10359 0 0"/>
    <axis xyz="0 0 1"/>
    <parent link="left_lower_elbow"/>
    <child link="left_upper_forearm"/>
    <limit effort="15.0" lower="-3.059" upper="3.059" velocity="4.0"/>
    <dynamics damping="0.7" friction="0.0"/>
  </joint>
  <joint name="left_w0_fixed" type="fixed">
    <origin rpy="1.57079632679 0 1.57079632679" xyz="0.088 0 0"/>
    <axis xyz="0 0 1"/>
    <parent link="left_lower_elbow"/>
    <child link="left_upper_forearm_visual"/>
  </joint>
  <joint name="left_w0_to_itb_fixed" type="fixed">
    <origin rpy="-1.57079632679 0 1.57079632679" xyz="-0.0565 0 0.12"/>
    <axis xyz="0 0 1"/>
    <parent link="left_upper_forearm"/>
    <child link="left_arm_itb"/>
  </joint>
  <joint name="left_w1" type="revolute">
    <origin rpy="-1.57079632679 -1.57079632679 0" xyz="0.01 0 0.2707"/>
    <axis xyz="0 0 1"/>
    <parent link="left_upper_forearm"/>
    <child link="left_lower_forearm"/>
    <limit effort="15.0" lower="-1.57079632679" upper="2.094" velocity="4.0"/>
    <dynamics damping="0.7" friction="0.0"/>
  </joint>
  <joint name="left_w2" type="revolute">
    <origin rpy="1.57079632679 0 1.57079632679" xyz="0.115975 0 0"/>
    <axis xyz="0 0 1"/>
    <parent link="left_lower_forearm"/>
    <child link="left_wrist"/>
    <limit effort="15.0" lower="-3.059" upper="3.059" velocity="4.0"/>
    <dynamics damping="0.7" friction="0.0"/>
  </joint>
  <joint name="left_hand" type="fixed">
    <origin rpy="0 0 0" xyz="0 0 0.11355"/>
    <axis xyz="0 0 1"/>
    <parent link="left_wrist"/>
    <child link="left_hand"/>
    <dynamics damping="0.7" friction="0.0"/>
  </joint>
  <joint name="left_hand_camera" type="fixed">
    <origin rpy="0 0 -1.57079633" xyz="0.03825 0.012 0.015355"/>
    <parent link="left_hand"/>
    <child link="left_hand_camera"/>
  </joint>
  <joint name="left_hand_camera_axis" type="fixed">
    <origin rpy="0 0 0" xyz="0.03825 0.012 0.015355"/>
    <parent link="left_hand"/>
    <child link="left_hand_camera_axis"/>
  </joint>
  <joint name="left_hand_range" type="fixed">
    <origin rpy="0 -1.57079632679 -1.57079632679" xyz="0.032 -0.020245 0.0288"/>
    <parent link="left_hand"/>
    <child link="left_hand_range"/>
  </joint>
  <joint name="left_hand_accelerometer" type="fixed">
    <origin rpy="0 0 0" xyz="0.00198 0.000133 -0.0146"/>
    <parent link="left_hand"/>
    <child link="left_hand_accelerometer"/>
  </joint>
  <joint name="left_gripper_base" type="fixed">
    <origin rpy="0 0 0" xyz="0 0 0"/>
    <parent link="left_hand"/>
    <child link="left_gripper_base"/>
  </joint>
  <joint name="left_endpoint" type="fixed">
    <origin rpy="0 0 0" xyz="0.0 0 0.025"/>
    <parent link="left_gripper_base"/>
    <child link="left_gripper"/>
  </joint>

  <!-- Transmissions -->

  <!-- Right Arm -->
  <transmission name="right_tran1">
    <type>transmission_interface/SimpleTransmission</type>
    <joint name="right_s0"/>
    <actuator name="right_motor1">
      <hardwareInterface>EffortJointInterface</hardwareInterface>
      <mechanicalReduction>1</mechanicalReduction>
    </actuator>
  </transmission>
  <transmission name="right_tran2">
    <type>transmission_interface/SimpleTransmission</type>
    <joint name="right_s1"/>
    <actuator name="right_motor2">
      <hardwareInterface>EffortJointInterface</hardwareInterface>
      <mechanicalReduction>1</mechanicalReduction>
    </actuator>
  </transmission>
  <transmission name="right_tran3">
    <type>transmission_interface/SimpleTransmission</type>
    <joint name="right_e0"/>
    <actuator name="right_motor3">
      <hardwareInterface>EffortJointInterface</hardwareInterface>
      <mechanicalReduction>1</mechanicalReduction>
    </actuator>
  </transmission>
  <transmission name="right_tran4">
    <type>transmission_interface/SimpleTransmission</type>
    <joint name="right_e1"/>
    <actuator name="right_motor4">
      <hardwareInterface>EffortJointInterface</hardwareInterface>
      <mechanicalReduction>1</mechanicalReduction>
    </actuator>
  </transmission>
  <transmission name="right_tran5">
    <type>transmission_interface/SimpleTransmission</type>
    <joint name="right_w0"/>
    <actuator name="right_motor5">
      <hardwareInterface>EffortJointInterface</hardwareInterface>
      <mechanicalReduction>1</mechanicalReduction>
    </actuator>
  </transmission>
  <transmission name="right_tran6">
    <type>transmission_interface/SimpleTransmission</type>
    <joint name="right_w1"/>
    <actuator name="right_motor6">
      <hardwareInterface>EffortJointInterface</hardwareInterface>
      <mechanicalReduction>1</mechanicalReduction>
    </actuator>
  </transmission>
  <transmission name="right_tran7">
    <type>transmission_interface/SimpleTransmission</type>
    <joint name="right_w2"/>
    <actuator name="right_motor7">
      <hardwareInterface>EffortJointInterface</hardwareInterface>
      <mechanicalReduction>1</mechanicalReduction>
    </actuator>
  </transmission>

  <!-- Left Arm -->
  <transmission name="left_tran1">
    <type>transmission_interface/SimpleTransmission</type>
    <joint name="left_s0"/>
    <actuator name="left_motor1">
      <hardwareInterface>EffortJointInterface</hardwareInterface>
      <mechanicalReduction>1</mechanicalReduction>
    </actuator>
  </transmission>
  <transmission name="left_tran2">
    <type>transmission_interface/SimpleTransmission</type>
    <joint name="left_s1"/>
    <actuator name="left_motor2">
      <hardwareInterface>EffortJointInterface</hardwareInterface>
      <mechanicalReduction>1</mechanicalReduction>
    </actuator>
  </transmission>
  <transmission name="left_tran3">
    <type>transmission_interface/SimpleTransmission</type>
    <joint name="left_e0"/>
    <actuator name="left_motor3">
      <hardwareInterface>EffortJointInterface</hardwareInterface>
      <mechanicalReduction>1</mechanicalReduction>
    </actuator>
  </transmission>
  <transmission name="left_tran4">
    <type>transmission_interface/SimpleTransmission</type>
    <joint name="left_e1"/>
    <actuator name="left_motor4">
      <hardwareInterface>EffortJointInterface</hardwareInterface>
      <mechanicalReduction>1</mechanicalReduction>
    </actuator>
  </transmission>
  <transmission name="left_tran5">
    <type>transmission_interface/SimpleTransmission</type>
    <joint name="left_w0"/>
    <actuator name="left_motor5">
      <hardwareInterface>EffortJointInterface</hardwareInterface>
      <mechanicalReduction>1</mechanicalReduction>
    </actuator>
  </transmission>
  <transmission name="left_tran6">
    <type>transmission_interface/SimpleTransmission</type>
    <joint name="left_w1"/>
    <actuator name="left_motor6">
      <hardwareInterface>EffortJointInterface</hardwareInterface>
      <mechanicalReduction>1</mechanicalReduction>
    </actuator>
  </transmission>
  <transmission name="left_tran7">
    <type>transmission_interface/SimpleTransmission</type>
    <joint name="left_w2"/>
    <actuator name="left_motor7">
      <hardwareInterface>EffortJointInterface</hardwareInterface>
      <mechanicalReduction>1</mechanicalReduction>
    </actuator>
  </transmission>

  <!-- Head -->
  <transmission name="head1">
    <type>transmission_interface/SimpleTransmission</type>
    <joint name="head_pan"/>
    <actuator name="head_motor1">
      <hardwareInterface>EffortJointInterface</hardwareInterface>
      <mechanicalReduction>1</mechanicalReduction>
    </actuator>
  </transmission>

  <!-- ros_control plugin -->
  <gazebo>
    <plugin name="baxter_ros_control" filename="libbaxter_gazebo_ros_control.so">
      <robotNamespace>/robot</robotNamespace>
    </plugin>
  </gazebo>

  <!-- Gazebo-Specific Link Properties -->
  <gazebo reference="torso">
    <selfCollide>true</selfCollide>
  </gazebo>
  <gazebo reference="head_pan">
    <implicitSpringDamper>1</implicitSpringDamper>
  </gazebo>
  <gazebo reference="right_s0">
    <implicitSpringDamper>1</implicitSpringDamper>
  </gazebo>
  <gazebo reference="right_s1">
    <implicitSpringDamper>1</implicitSpringDamper>
  </gazebo>
  <gazebo reference="right_e0">
    <implicitSpringDamper>1</implicitSpringDamper>
  </gazebo>
  <gazebo reference="right_e1">
    <implicitSpringDamper>1</implicitSpringDamper>
  </gazebo>
  <gazebo reference="right_w0">
    <implicitSpringDamper>1</implicitSpringDamper>
  </gazebo>
  <gazebo reference="right_w1">
    <implicitSpringDamper>1</implicitSpringDamper>
  </gazebo>
  <gazebo reference="right_w2">
    <implicitSpringDamper>1</implicitSpringDamper>
  </gazebo>
  <gazebo reference="left_s0">
    <implicitSpringDamper>1</implicitSpringDamper>
  </gazebo>
  <gazebo reference="left_s1">
    <implicitSpringDamper>1</implicitSpringDamper>
  </gazebo>
  <gazebo reference="left_e0">
    <implicitSpringDamper>1</implicitSpringDamper>
  </gazebo>
  <gazebo reference="left_e1">
    <implicitSpringDamper>1</implicitSpringDamper>
  </gazebo>
  <gazebo reference="left_w0">
    <implicitSpringDamper>1</implicitSpringDamper>
  </gazebo>
  <gazebo reference="left_w1">
    <implicitSpringDamper>1</implicitSpringDamper>
  </gazebo>
  <gazebo reference="left_w2">
    <implicitSpringDamper>1</implicitSpringDamper>
  </gazebo>
  <gazebo reference="head_camera">
    <sensor name="head_camera" type="camera">
      <update_rate>30.0</update_rate>
      <camera name="head_camera">
        <pose>0.0 0.21 0.0 0.0 -0.8 -1.570796327 </pose>
        <horizontal_fov>1.3962634</horizontal_fov>
        <image>
          <width>800</width>
          <height>800</height>
          <format>R8G8B8</format>
        </image>
        <clip>
          <near>0.02</near>
          <far>300</far>
        </clip>
        <noise>
          <type>gaussian</type>
          <mean>0.0</mean>
          <stddev>0.007</stddev>
        </noise>
      </camera>
      <plugin filename="libgazebo_ros_camera.so" name="camera_controller">
        <alwaysOn>true</alwaysOn>
        <updateRate>0.0</updateRate>
        <cameraName>head_camera</cameraName>
        <imageTopicName>image</imageTopicName>
        <cameraInfoTopicName>camera_info</cameraInfoTopicName>
        <frameName>head_camera</frameName>
        <hackBaseline>0.07</hackBaseline>
        <distortionK1>0.0</distortionK1>
        <distortionK2>0.0</distortionK2>
        <distortionK3>0.0</distortionK3>
        <distortionT1>0.0</distortionT1>
        <distortionT2>0.0</distortionT2>
        <robotNamespace>/cameras</robotNamespace>
      </plugin>
    </sensor>
  </gazebo>
  <gazebo reference="right_hand_camera">
    <sensor name="right_hand_camera" type="camera">
      <update_rate>30.0</update_rate>
      <camera name="right_hand_camera">
        <pose>0.0 0.0 0.0 0.0 -1.570796327 1.570796327 </pose>
        <horizontal_fov>1.3962634</horizontal_fov>
        <image>
          <width>800</width>
          <height>800</height>
          <format>R8G8B8</format>
        </image>
        <clip>
          <near>0.02</near>
          <far>300</far>
        </clip>
        <noise>
          <type>gaussian</type>
          <mean>0.0</mean>
          <stddev>0.007</stddev>
        </noise>
      </camera>
      <plugin filename="libgazebo_ros_camera.so" name="camera_controller">
        <alwaysOn>true</alwaysOn>
        <updateRate>0.0</updateRate>
        <cameraName>right_hand_camera</cameraName>
        <imageTopicName>image</imageTopicName>
        <cameraInfoTopicName>camera_info</cameraInfoTopicName>
        <frameName>right_hand_camera</frameName>
        <hackBaseline>0.07</hackBaseline>
        <distortionK1>0.0</distortionK1>
        <distortionK2>0.0</distortionK2>
        <distortionK3>0.0</distortionK3>
        <distortionT1>0.0</distortionT1>
        <distortionT2>0.0</distortionT2>
        <robotNamespace>/cameras</robotNamespace>
      </plugin>
    </sensor>
  </gazebo>
  <gazebo reference="left_hand_camera">
    <sensor name="left_hand_camera" type="camera">
      <update_rate>30.0</update_rate>
      <camera name="left_hand_camera">
        <pose>0.0 0.0 0.0 0.0 -1.570796327 1.570796327 </pose>
        <horizontal_fov>1.3962634</horizontal_fov>
        <image>
          <width>800</width>
          <height>800</height>
          <format>R8G8B8</format>
        </image>
        <clip>
          <near>0.02</near>
          <far>300</far>
        </clip>
        <noise>
          <type>gaussian</type>
          <mean>0.0</mean>
          <stddev>0.007</stddev>
        </noise>
      </camera>
      <plugin filename="libgazebo_ros_camera.so" name="camera_controller">
        <alwaysOn>true</alwaysOn>
        <updateRate>0.0</updateRate>
        <cameraName>left_hand_camera</cameraName>
        <imageTopicName>image</imageTopicName>
        <cameraInfoTopicName>camera_info</cameraInfoTopicName>
        <frameName>left_hand_camera</frameName>
        <hackBaseline>0.07</hackBaseline>
        <distortionK1>0.0</distortionK1>
        <distortionK2>0.0</distortionK2>
        <distortionK3>0.0</distortionK3>
        <distortionT1>0.0</distortionT1>
        <distortionT2>0.0</distortionT2>
        <robotNamespace>/cameras</robotNamespace>
      </plugin>
    </sensor>
  </gazebo>
  <gazebo reference="display">
    <visual>
      <plugin name="screen_video_controller" filename="libgazebo_ros_video.so">
        <height>600</height>
        <width>1024</width>
        <topicName>/robot/xdisplay</topicName>
      </plugin>
    </visual>
  </gazebo>
  <gazebo reference="sonar_ring">
    <sensor name="sonar" type="ray">
      <pose>0.0 0.0 0.0 0.0 0.0 0.0</pose>
      <ray>
        <scan>
          <horizontal>
            <samples>12</samples>
            <resolution>1.0</resolution>
            <min_angle>-3.14</min_angle>
            <max_angle>3.14</max_angle>
          </horizontal>
          <vertical>
            <samples>2</samples>
            <resolution>1.0</resolution>
            <min_angle>-0.001</min_angle>
            <max_angle>0</max_angle>
          </vertical>
        </scan>
        <range>
          <min>0.05</min>
          <max>50.0</max>
        </range>
      </ray>
      <plugin name="sonar_plugin" filename="libgazebo_ros_block_laser.so">
        <gaussianNoise>0.00</gaussianNoise>
        <alwaysOn>true</alwaysOn>
        <updateRate>100.0</updateRate>
        <topicName>/robot/sonar/head_sonar/state</topicName>
        <frameName>sonar_ring</frameName>
      </plugin>
      <always_on>true</always_on>
      <update_rate>100.0</update_rate>
    </sensor>
  </gazebo>
  <gazebo reference="right_hand_range">
    <sensor name="ir_right" type="ray">
      <pose>0.0 0.0 0.0 0.0 0.0 0.0</pose>
      <ray>
        <scan>
          <horizontal>
            <samples>1</samples>
            <resolution>1.0</resolution>
            <min_angle>-0.5</min_angle>
            <max_angle>0.5</max_angle>
          </horizontal>
        </scan>
        <range>
          <min>0.004</min>
          <max>0.4</max>
        </range>
      </ray>
      <plugin name="plugin_3" filename="libgazebo_ros_laser.so">
        <gaussianNoise>0.005</gaussianNoise>
        <alwaysOn>true</alwaysOn>
        <updateRate>100</updateRate>
        <topicName>/sim/laserscan/right_hand_range/state</topicName>
        <frameName>right_hand_range</frameName>
      </plugin>
      <always_on>true</always_on>
      <update_rate>100.0</update_rate>
    </sensor>
  </gazebo>
  <gazebo reference="left_hand_range">
    <sensor name="ir_left" type="ray">
      <pose>0.0 0.0 0.0 0.0 0.0 0.0</pose>
      <ray>
        <scan>
          <horizontal>
            <samples>1</samples>
            <resolution>1.0</resolution>
            <min_angle>-0.5</min_angle>
            <max_angle>0.5</max_angle>
          </horizontal>
        </scan>
        <range>
          <min>0.004</min>
          <max>0.4</max>
        </range>
      </ray>
      <plugin name="plugin_4" filename="libgazebo_ros_laser.so">
        <gaussianNoise>0.005</gaussianNoise>
        <alwaysOn>true</alwaysOn>
        <updateRate>100</updateRate>
        <topicName>/sim/laserscan/left_hand_range/state</topicName>
        <frameName>left_hand_range</frameName>
      </plugin>
      <always_on>true</always_on>
      <update_rate>100.0</update_rate>
    </sensor>
  </gazebo>
</robot>
